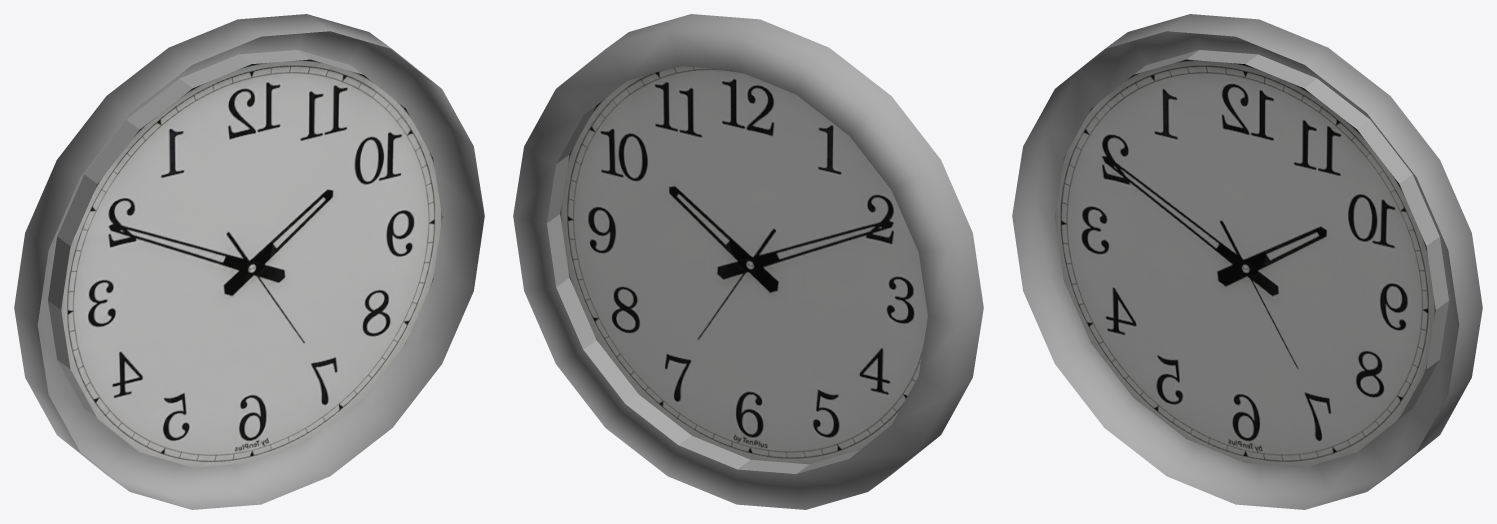
File: Clock.fbx
3 renders of one model, left to right at view 1: azimuth 30°, elevation 25°; view 2: azimuth 150°, elevation 25°; view 3: azimuth 330°, elevation 25°, orthographic.
Parts seen in each view (by area): view 1: Clock; view 2: Clock; view 3: Clock.
Boxes of the visible parts, x1,y1,x2,y2 form: Clock: (14, 14, 484, 509); Clock: (513, 14, 983, 509); Clock: (1012, 14, 1482, 509).
Size of the model in its own units: 2.35 by 2.35 by 0.214.
